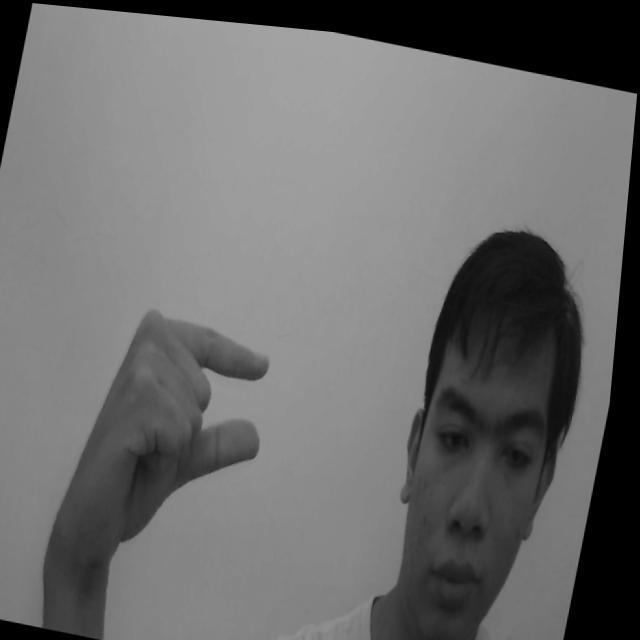G: (55, 292, 290, 584)
